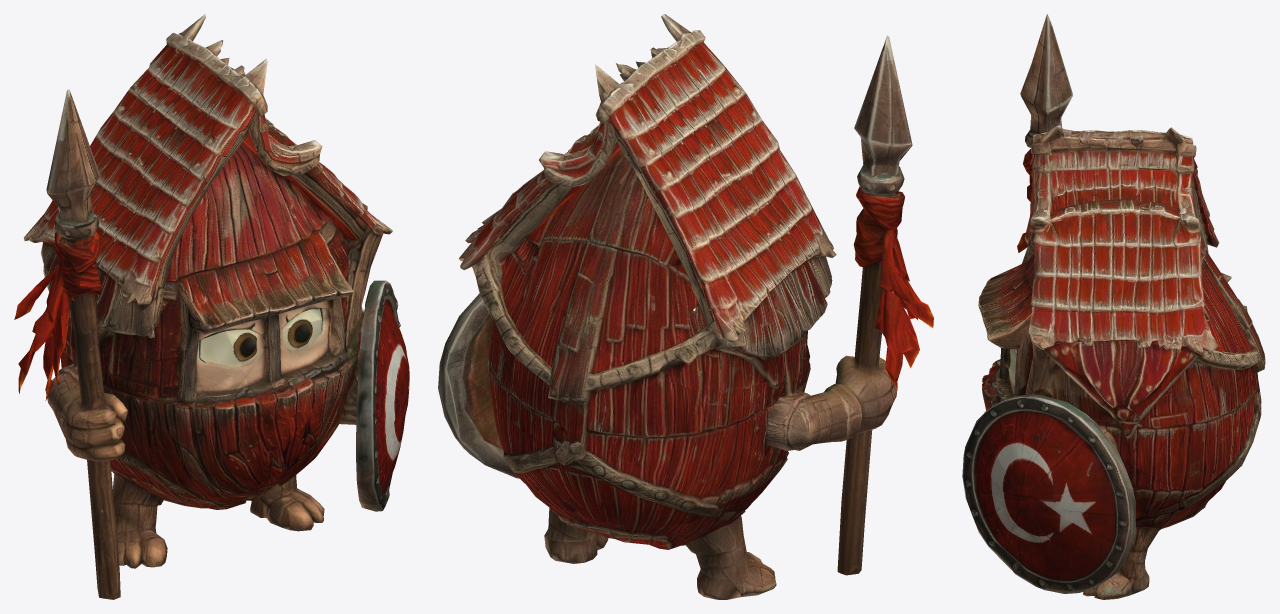
The model's file is otag-warrior.glb.
3 renders of one model, left to right at view 1: azimuth 30°, elevation 25°; view 2: azimuth 150°, elevation 25°; view 3: azimuth 270°, elevation 25°, orthographic. The views are drawn at different scales.
Parts seen in each view (by area): view 1: OtagWarrior; view 2: OtagWarrior; view 3: OtagWarrior.
Part boxes in pixels (bbox=[...]): OtagWarrior: bbox=[14, 14, 409, 599]; OtagWarrior: bbox=[438, 14, 933, 599]; OtagWarrior: bbox=[962, 14, 1265, 599].
Bounding box in the file's own units: 0.8436 × 0.9994 × 0.5949.
Materials: 1 (1 with a texture image).
